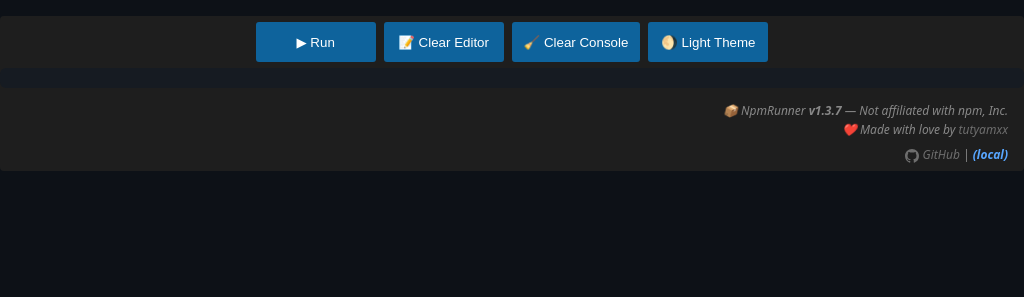
Test: 🏖️ Runner Component › Does not crash if Run is pressed with valid code
Click the button "▶ Run". click: (316, 42)
box: [256,22,376,62]
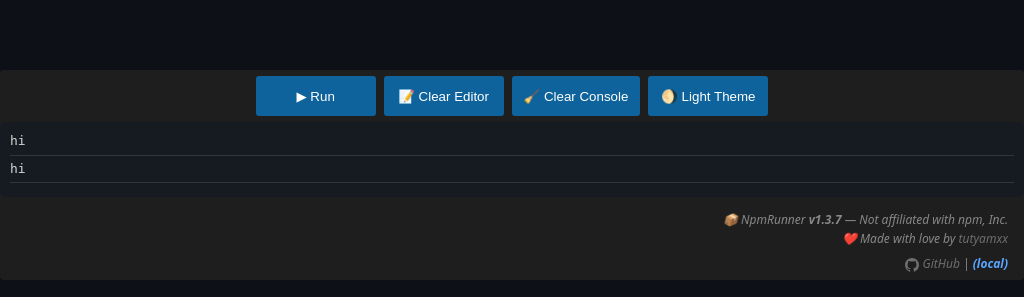
Expected: the element with class "runner-logs" is shown, [0,122,1023,197]
Result: the element with class "runner-logs" shows "hi" at [10,133,26,148]
